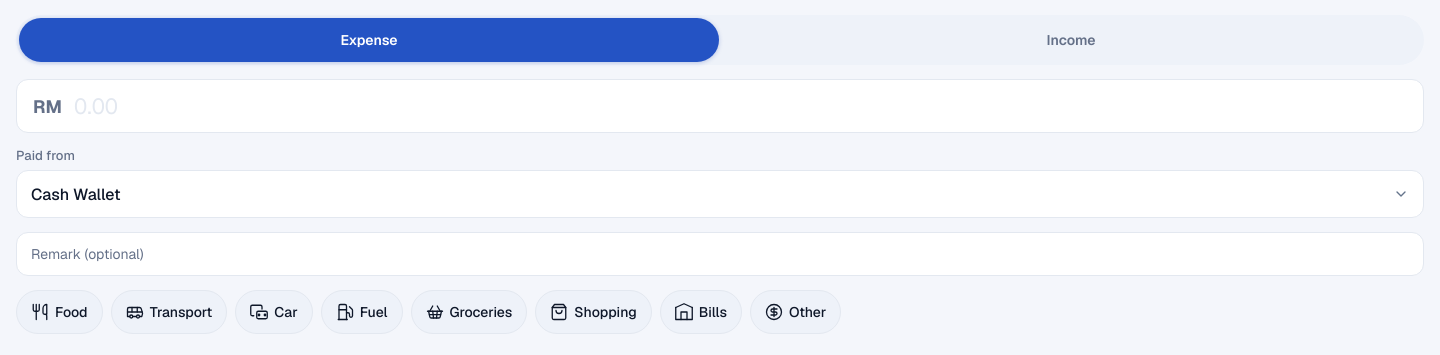
it: QuickLog › switching to Income mode shows account picker and source chips, hides expense chips
What coordinates should you click on to do the following:
click the button with test id "mode-income"
I would click on:
 (1071, 40)
Its box is [721,18,1421,62].
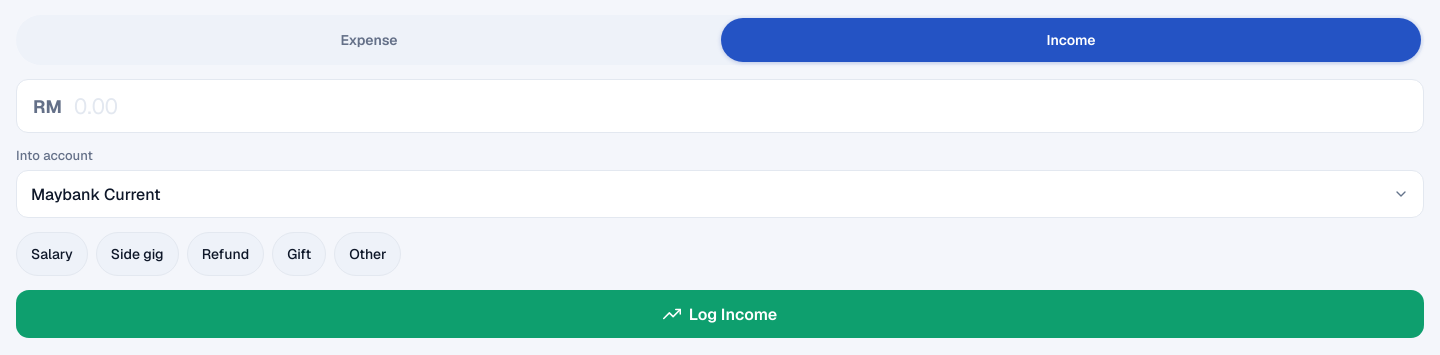
expect the dropdown with test id "income-account" is shown: met, box [16,170,1424,218]
expect the button with test id "income-src-salary" is shown: met, box [16,232,88,276]
expect the button with test id "income-src-side-gig" is shown: met, box [96,232,179,276]
